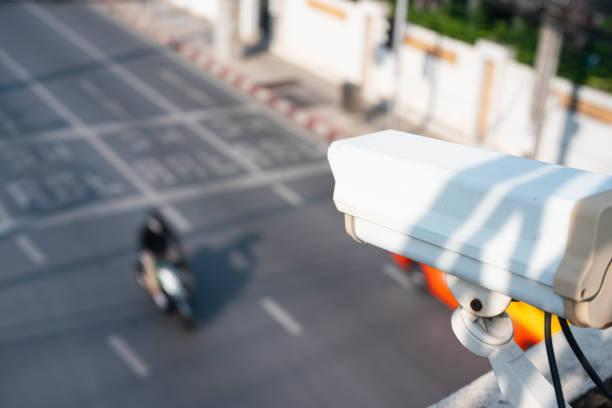camera: (301, 107, 612, 338)
